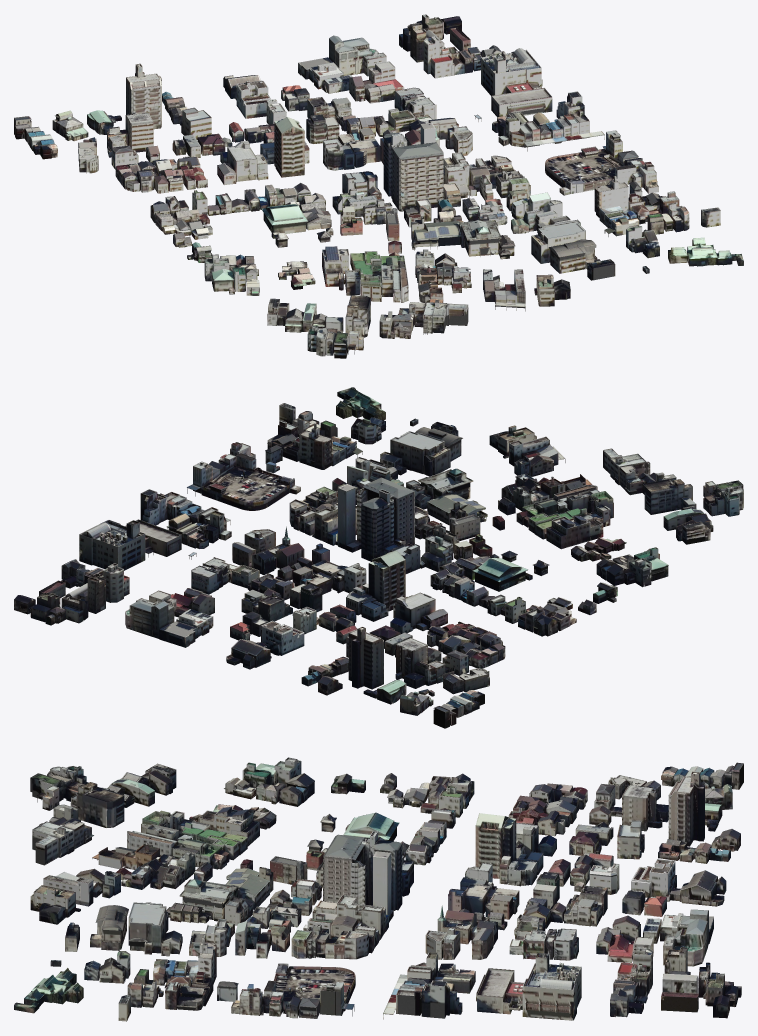
Rendered from lod3-station-5-0-packed.glb.
3 renders of one model, top to bottom at view 1: azimuth 30°, elevation 25°; view 2: azimuth 150°, elevation 25°; view 3: azimuth 270°, elevation 25°, orthographic. The views are drawn at different scales.
Bounding box in the file's own units: 286 × 39.77 × 351.
Materials: 45 (44 with a texture image).
